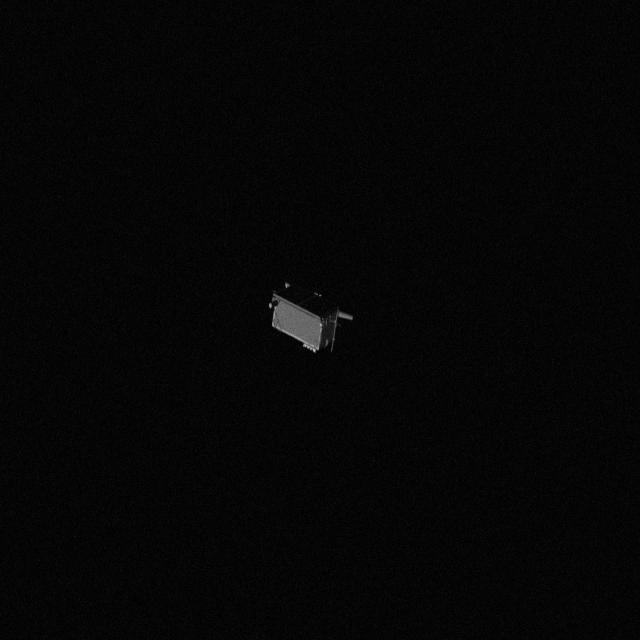medium_debris: (268, 278, 356, 354)
